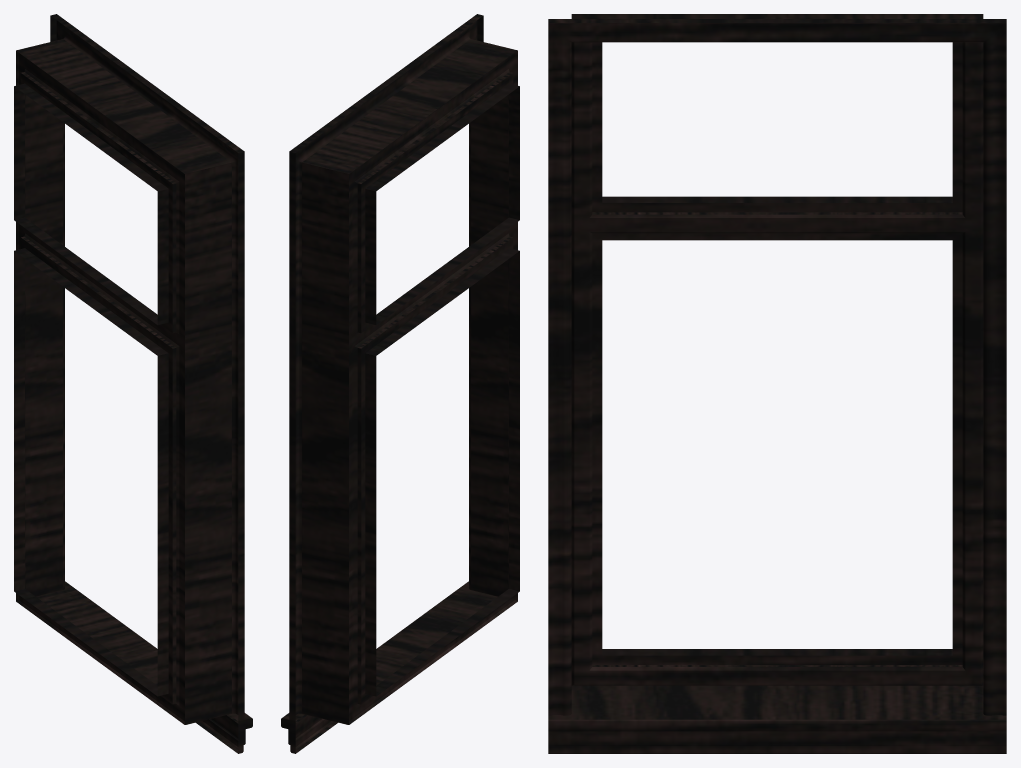
The model's file is window.obj.
3 views of the same model, side by side, from view 1: azimuth 30°, elevation 25°; view 2: azimuth 150°, elevation 25°; view 3: azimuth 270°, elevation 25° (orthographic). The views are drawn at different scales.
Visible parts, largest first — view 1: Body_Courtyard_Template002_Window_reference_smd_mesh_0; view 2: Body_Courtyard_Template002_Window_reference_smd_mesh_0; view 3: Body_Courtyard_Template002_Window_reference_smd_mesh_0.
Part boxes in pixels (box(x1,y1,x2,y2)): Body_Courtyard_Template002_Window_reference_smd_mesh_0: box(14, 14, 252, 753); Body_Courtyard_Template002_Window_reference_smd_mesh_0: box(281, 14, 519, 753); Body_Courtyard_Template002_Window_reference_smd_mesh_0: box(548, 14, 1006, 753).
Size of the model in its own units: 10 by 78.5 by 44.5.
1 material, 1 textured.
